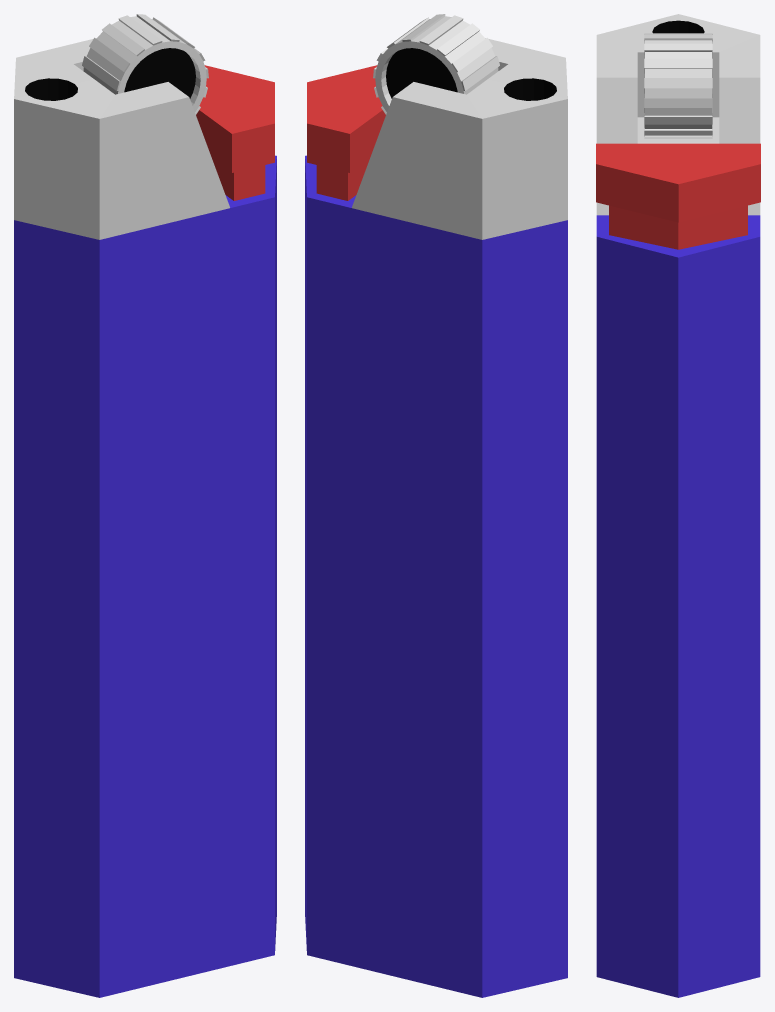
Rendered from Lighter.fbx.
The picture shows the model from 3 angles, left to right: view 1: azimuth 30°, elevation 25°; view 2: azimuth 150°, elevation 25°; view 3: azimuth 270°, elevation 25°; orthographic projection. The views are drawn at different scales.
Visible parts, largest first — view 1: Lighter; view 2: Lighter; view 3: Lighter.
Boxes of the visible parts, box(x1,y1,x2,y2) form: Lighter: box(14, 14, 276, 997); Lighter: box(305, 14, 567, 997); Lighter: box(596, 14, 760, 997).
Bounding box in the file's own units: 7.26 × 24.22 × 4.04.
